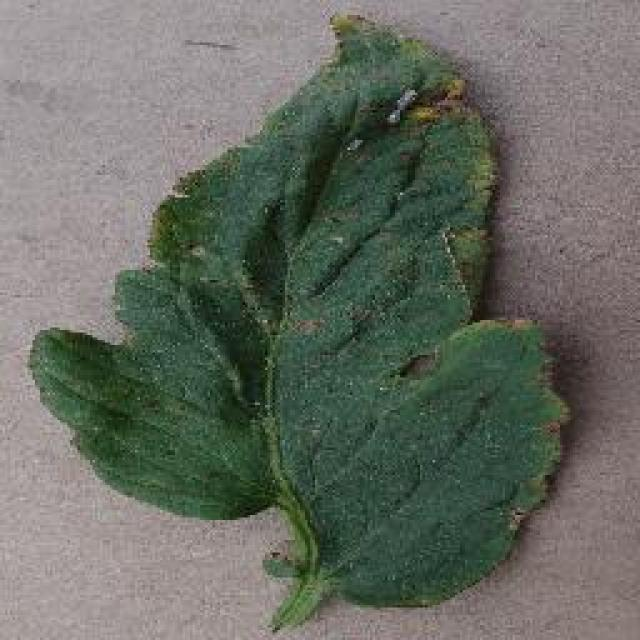Tomato bacterial spot leaf: (25, 9, 572, 614)
